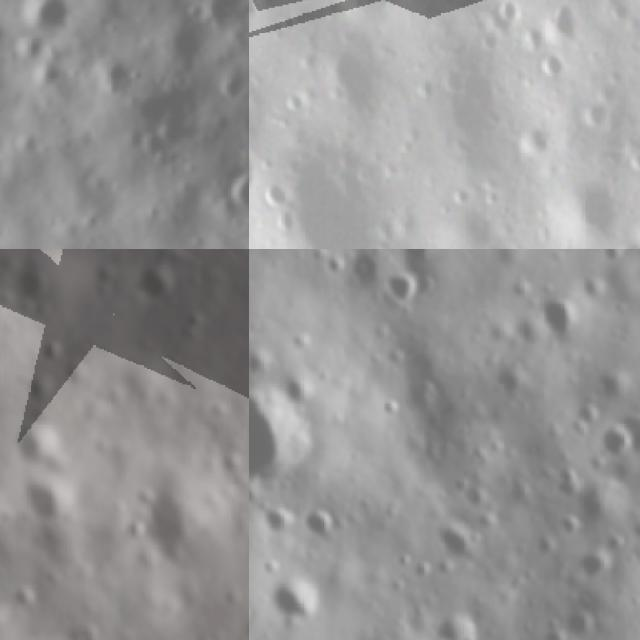crater: (281, 144, 381, 249), (249, 375, 313, 489), (0, 0, 94, 59), (320, 47, 390, 116), (79, 36, 146, 104), (563, 175, 627, 241), (529, 291, 588, 347), (14, 478, 78, 525), (210, 152, 249, 229), (423, 526, 485, 567), (272, 574, 314, 628), (15, 422, 54, 472), (587, 420, 633, 461), (418, 611, 481, 640), (545, 0, 585, 45), (379, 267, 421, 309), (275, 374, 322, 411), (299, 503, 336, 545), (554, 604, 597, 640), (570, 545, 610, 582), (258, 503, 294, 541), (136, 264, 173, 300), (540, 506, 577, 540), (14, 270, 46, 307), (500, 480, 534, 514), (543, 469, 581, 498), (37, 340, 71, 370), (457, 484, 494, 510), (490, 0, 527, 22), (524, 535, 554, 561), (622, 412, 640, 455), (396, 249, 438, 267), (538, 49, 565, 74), (372, 397, 398, 421), (597, 249, 631, 267), (183, 307, 202, 336), (249, 595, 260, 636)
